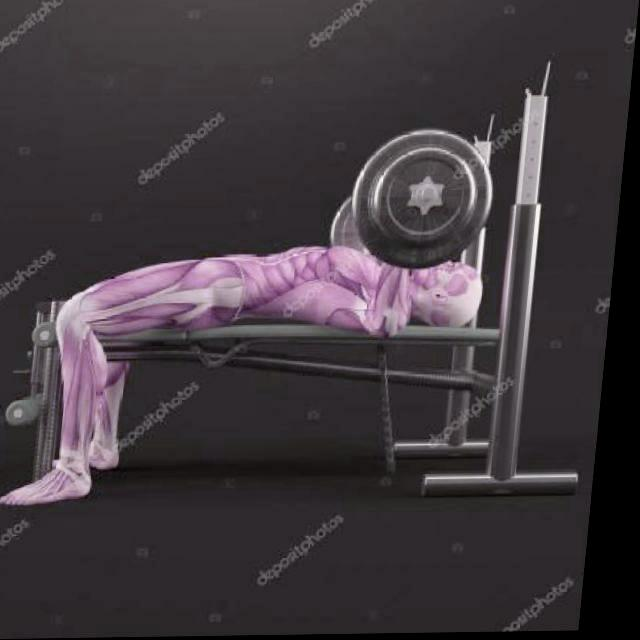barbell: (349, 126, 505, 276)
